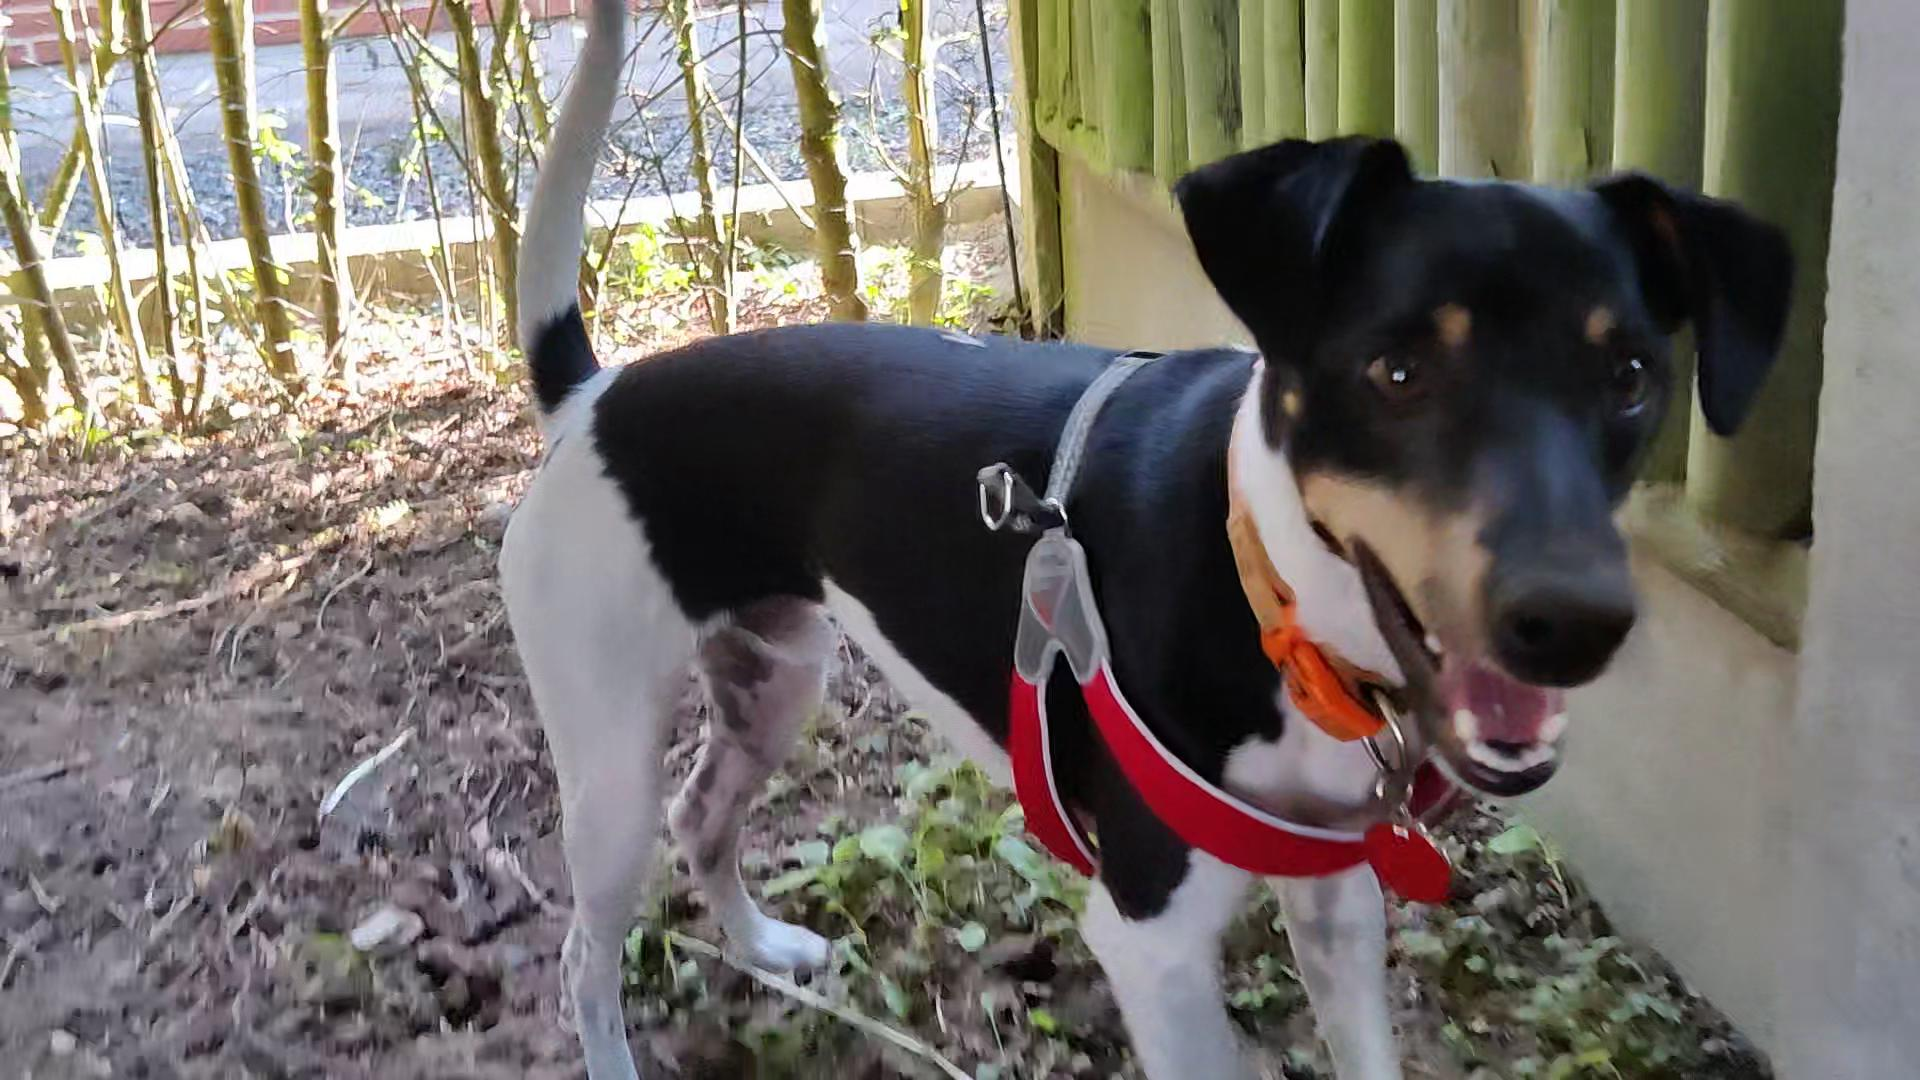Dog: (481, 0, 1805, 1079)
